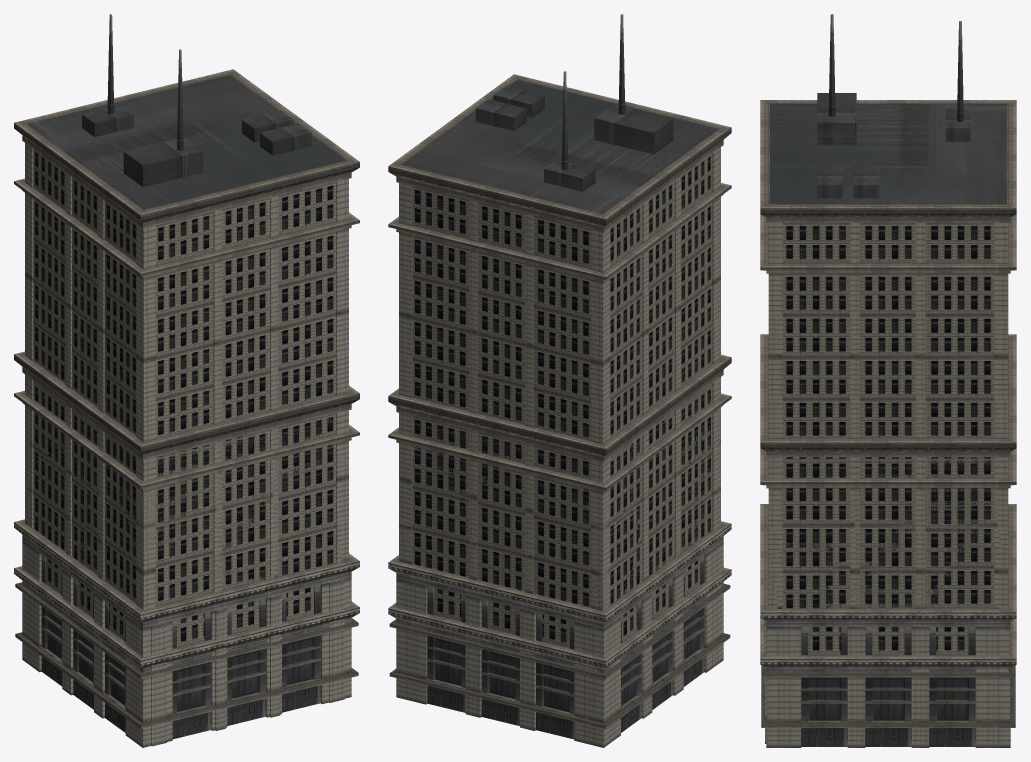
File: tutorial_building11.gltf
3 views of the same model, side by side, from view 1: azimuth 30°, elevation 25°; view 2: azimuth 150°, elevation 25°; view 3: azimuth 270°, elevation 25° (orthographic).
Visible parts, largest first — view 1: building11; view 2: building11; view 3: building11.
Boxes of the visible parts, x1,y1,x2,y2 form: building11: [14, 14, 359, 747]; building11: [388, 14, 731, 747]; building11: [760, 14, 1016, 747].
Size of the model in its own units: 22.53 by 64.52 by 22.53.
2 materials, 2 textured.
